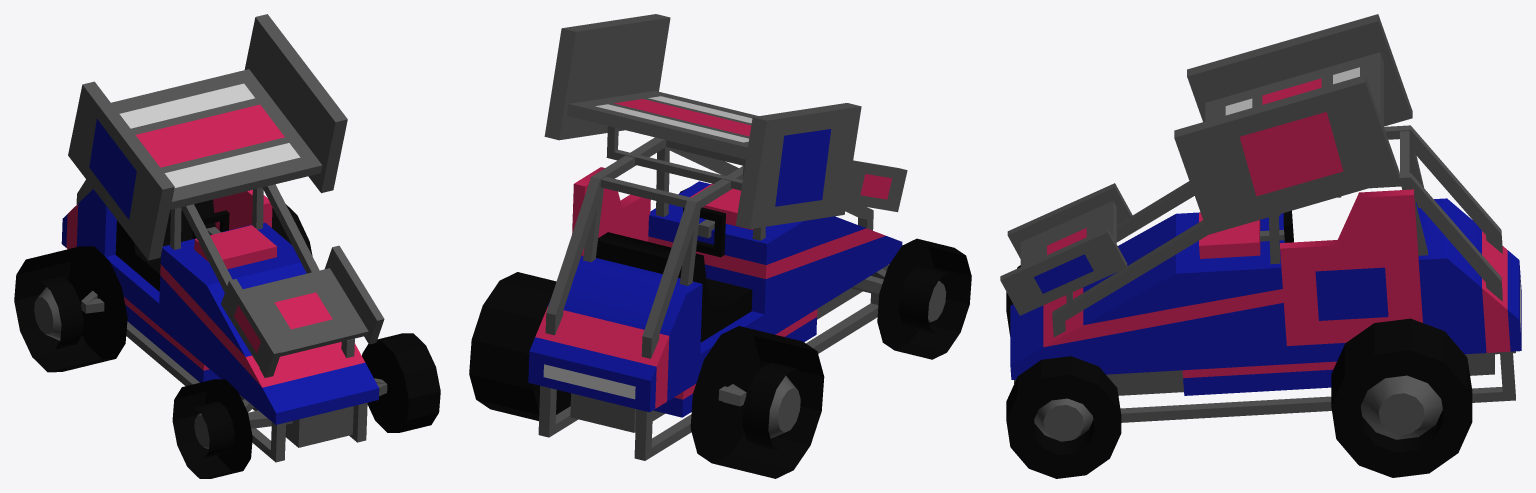
File: Vehicle_07.obj
3 renders of one model, left to right at view 1: azimuth 30°, elevation 25°; view 2: azimuth 150°, elevation 25°; view 3: azimuth 270°, elevation 25°, orthographic. The views are drawn at different scales.
Visible parts, largest first — view 1: Veh_07_SR_Veh_SprintCar_Black; view 2: Veh_07_SR_Veh_SprintCar_Black; view 3: Veh_07_SR_Veh_SprintCar_Black.
Boxes of the visible parts, x1,y1,x2,y2 form: Veh_07_SR_Veh_SprintCar_Black: (14,14,440,478); Veh_07_SR_Veh_SprintCar_Black: (469,14,971,478); Veh_07_SR_Veh_SprintCar_Black: (1000,14,1521,478).
Size of the model in its own units: 0.3212 by 0.408 by 0.5023.
